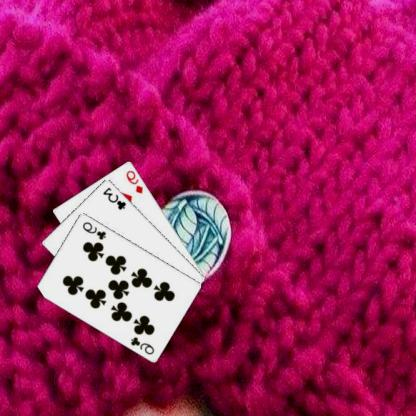3C: (102, 184, 129, 211)
9C: (82, 219, 110, 241), (130, 334, 158, 356)
9D: (125, 167, 146, 195)
